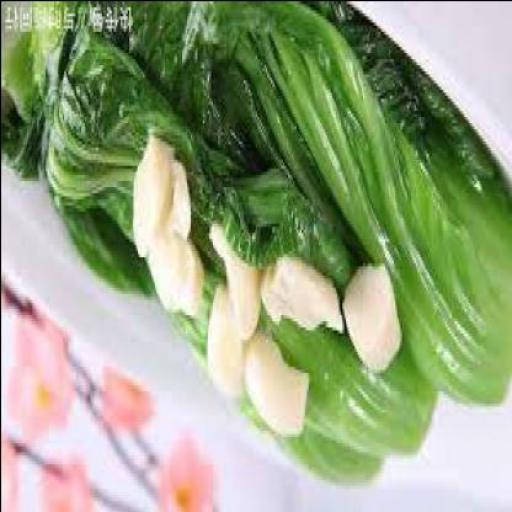biodegradable: (2, 3, 382, 491), (49, 2, 437, 460), (123, 2, 511, 410), (45, 189, 154, 305), (244, 336, 312, 442), (211, 220, 263, 348), (263, 253, 343, 335), (344, 268, 402, 378), (134, 134, 176, 259), (144, 235, 202, 323), (2, 25, 44, 134), (29, 3, 68, 113), (1, 110, 48, 189), (210, 287, 242, 390), (170, 168, 192, 242)
